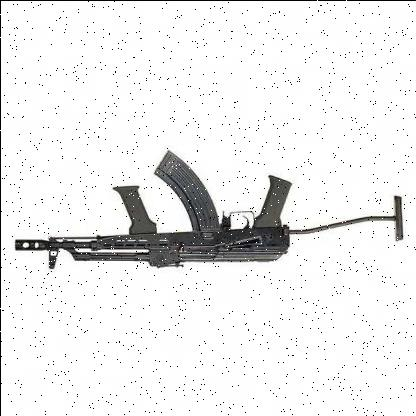rifle: (9, 143, 401, 302)
